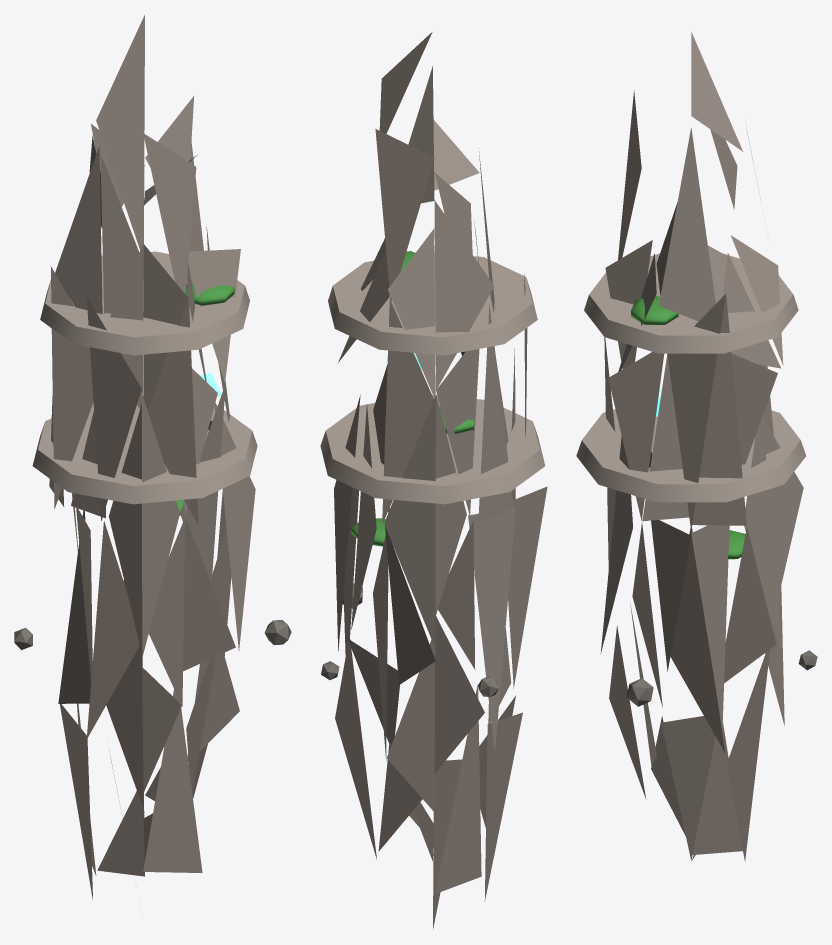
File: rockSpire.glb
3 views of the same model, side by side, from view 1: azimuth 30°, elevation 25°; view 2: azimuth 150°, elevation 25°; view 3: azimuth 270°, elevation 25° (orthographic).
Size of the model in its own units: 1.73 by 6.93 by 1.65.
